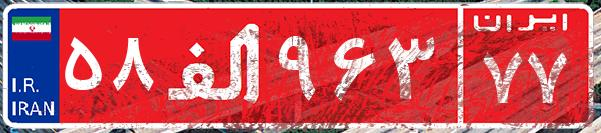3: (385, 28, 445, 110)
5: (57, 26, 110, 107)
6: (330, 28, 385, 110)
7: (475, 38, 525, 113), (525, 38, 570, 115)
8: (110, 28, 158, 105)
9: (273, 28, 330, 110)
الف: (158, 15, 273, 115)
